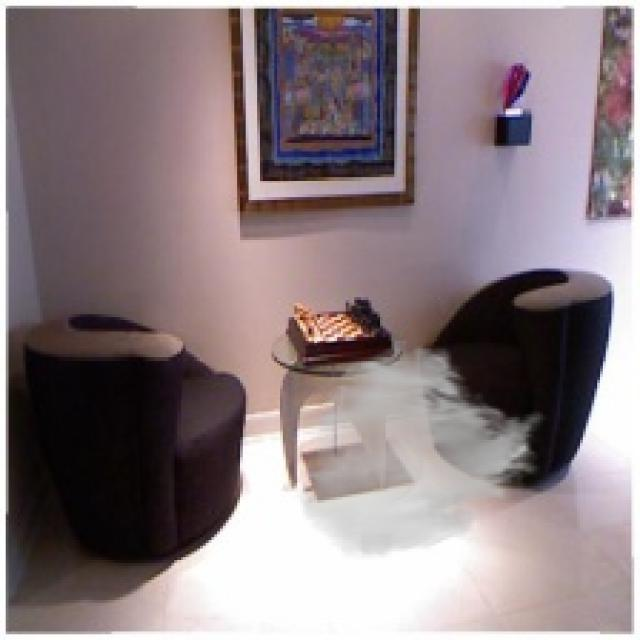smoke: (294, 343, 549, 560)
